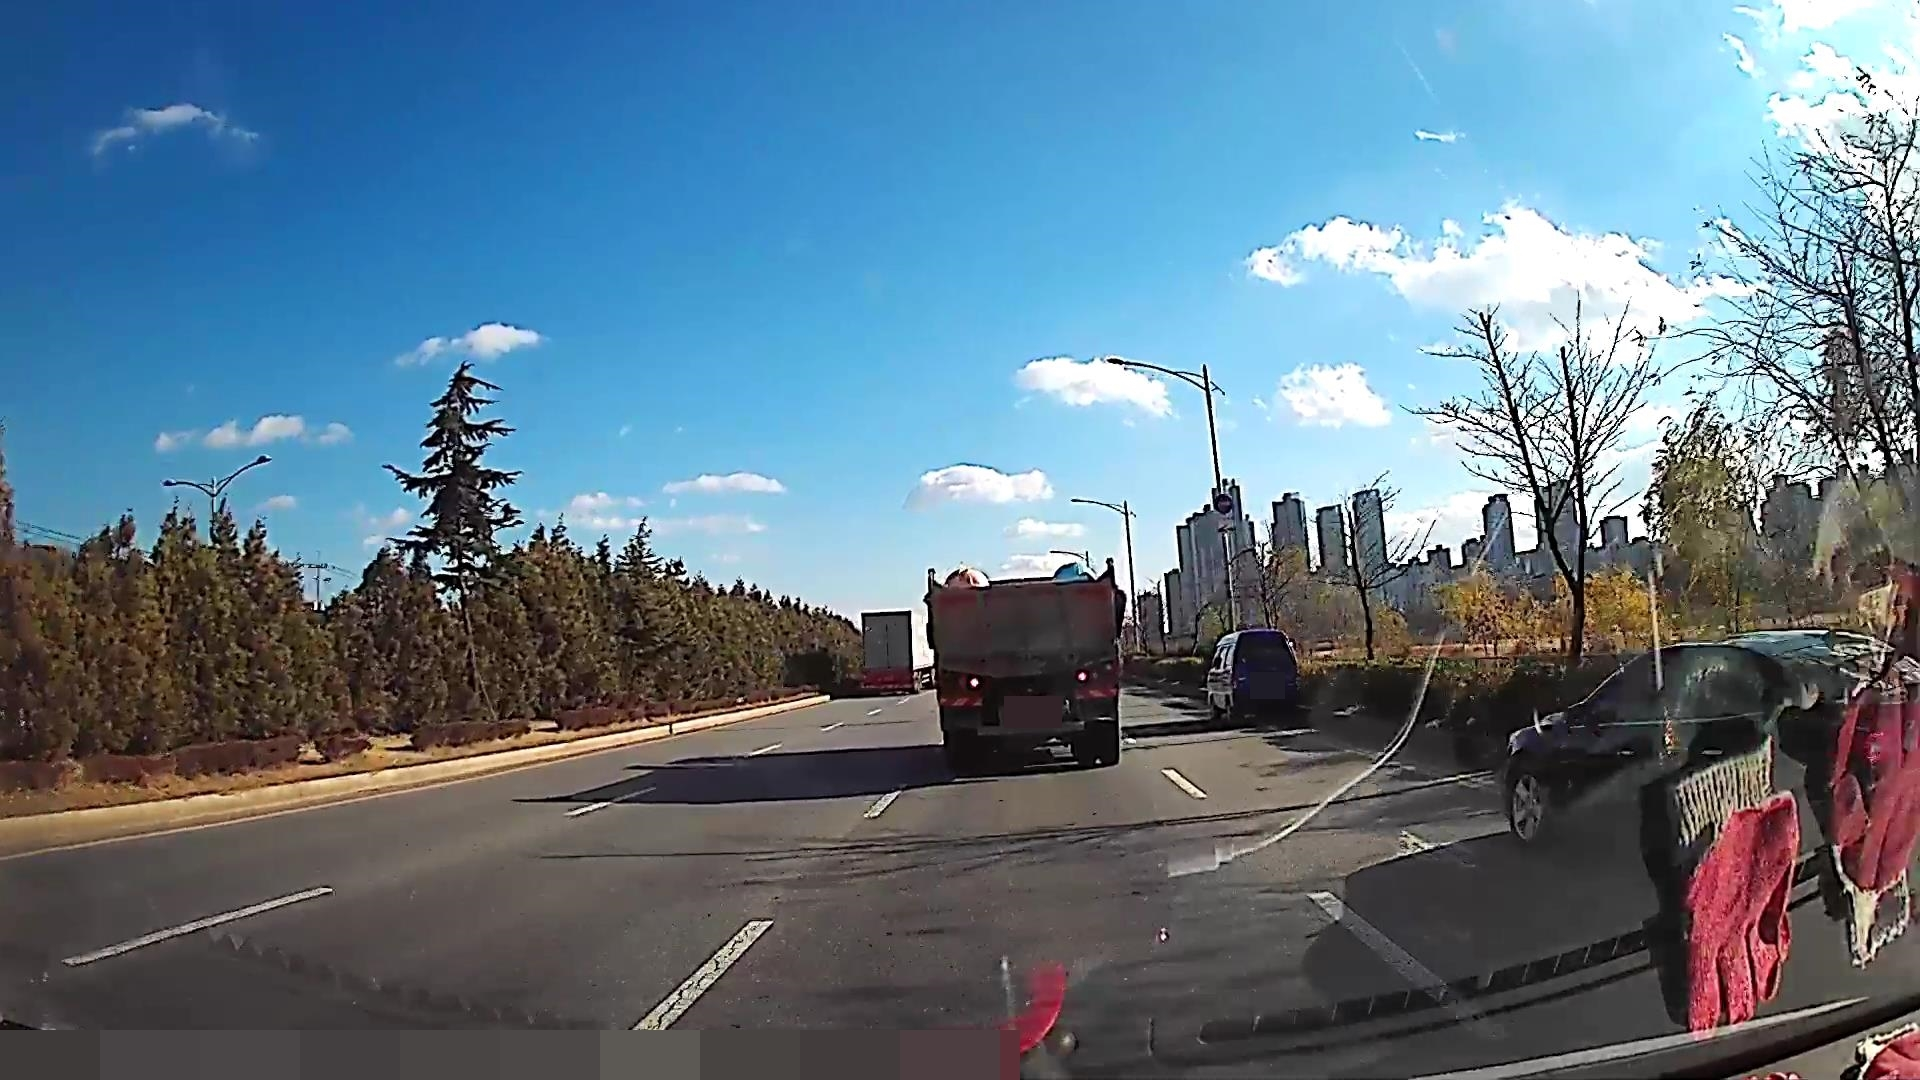불법차량: (925, 557, 1128, 769)
